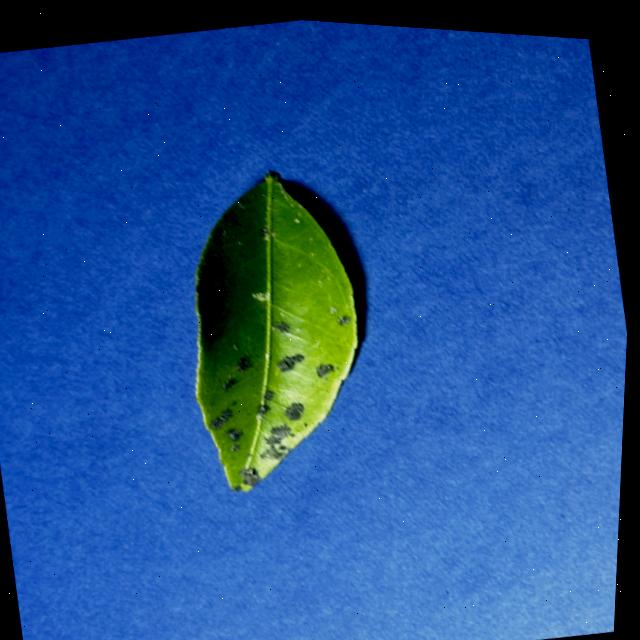sooty_mold: (196, 172, 357, 490)
